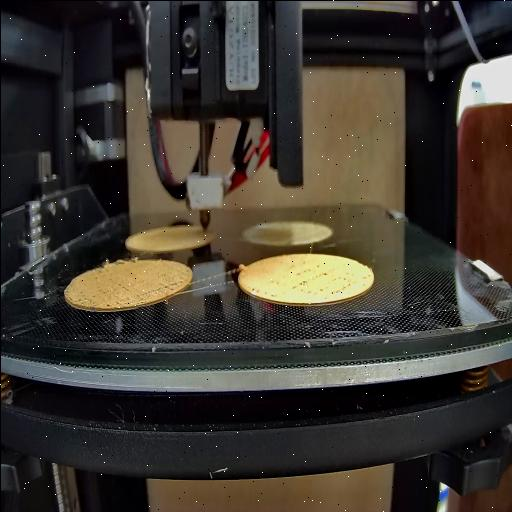under_extrusion: (290, 260, 352, 296), (78, 271, 130, 308), (146, 279, 176, 299), (250, 282, 274, 296)
